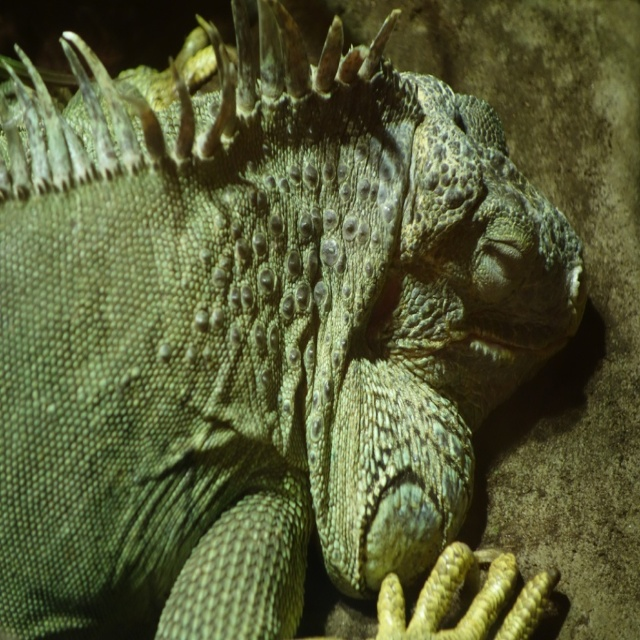Lizard: (31, 0, 597, 639)
